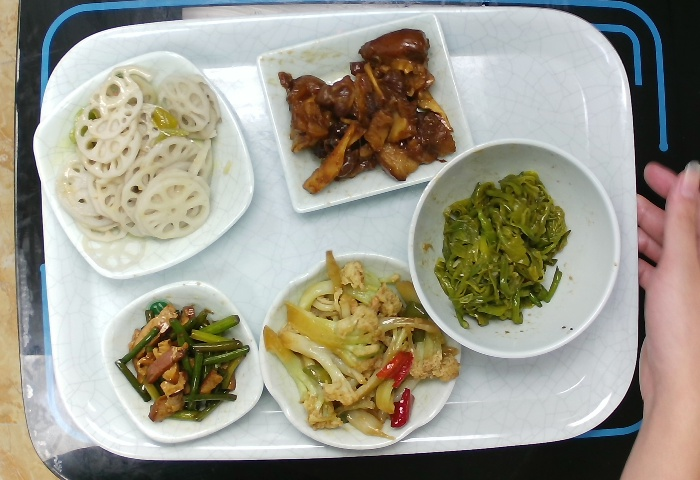JYsf-Ao_Yuan_Wan: (256, 250, 465, 453)
JYsf-Fan_Wan: (405, 134, 622, 362)
JYsf-Si_Fang_Die: (98, 278, 266, 444)
WCQzf-Da_Si_Fang_Die: (31, 46, 257, 282)
WCQzf-Ru_Ci_Si_Fang_Die: (254, 10, 477, 218)
